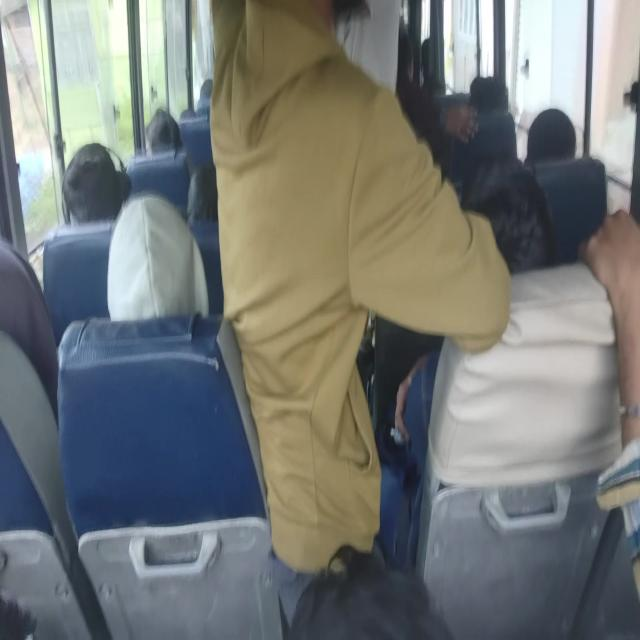person: (208, 0, 425, 527), (277, 537, 546, 640), (574, 196, 640, 527), (466, 154, 564, 298), (101, 188, 206, 320), (0, 233, 41, 434), (328, 0, 404, 96), (191, 162, 244, 242), (66, 144, 120, 219), (528, 110, 581, 165), (469, 70, 506, 117), (144, 107, 179, 151), (199, 71, 221, 110), (181, 98, 199, 120)
